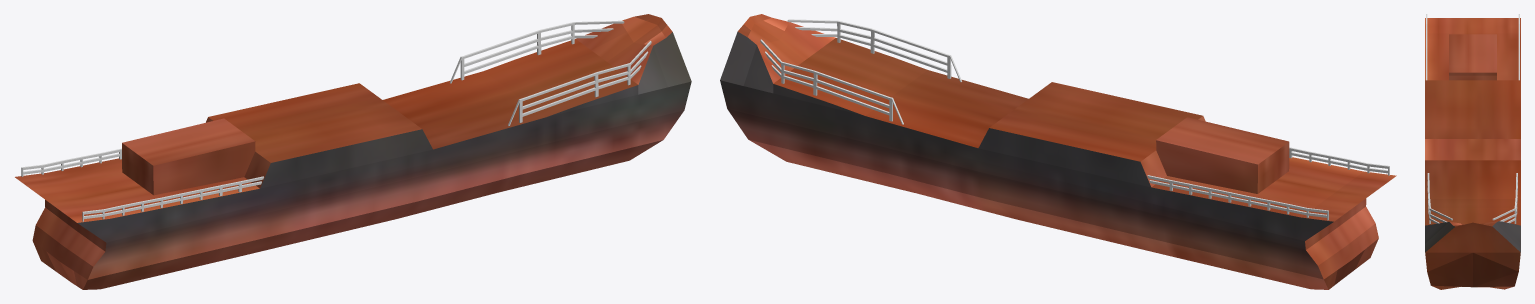
File: boat.fbx
3 renders of one model, left to right at view 1: azimuth 30°, elevation 25°; view 2: azimuth 150°, elevation 25°; view 3: azimuth 270°, elevation 25°, orthographic. The views are drawn at different scales.
Visible parts, largest first — view 1: Cube, Plane, Cube.001; view 2: Cube, Plane, Cube.001; view 3: Cube, Plane, Cube.001.
Part boxes in pixels (<box>): Cube: <box>15,14,691,289</box>; Plane: <box>449,20,651,125</box>; Cube.001: <box>21,148,263,221</box>; Cube: <box>720,14,1396,289</box>; Plane: <box>760,19,961,124</box>; Cube.001: <box>1147,147,1389,220</box>; Cube: <box>1425,18,1520,289</box>; Plane: <box>1427,173,1517,223</box>; Cube.001: <box>1426,14,1519,80</box>.
Bounding box in the file's own units: 480 × 93.48 × 84.81.
